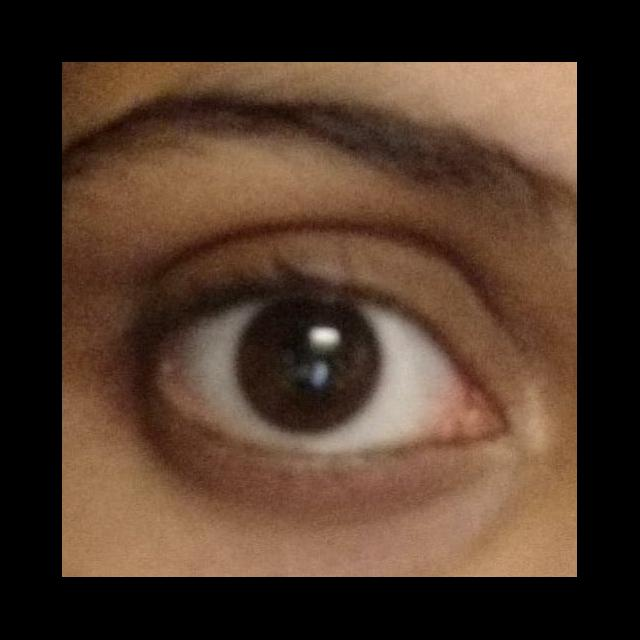eye: (155, 290, 468, 452)
iris: (232, 294, 389, 436)
